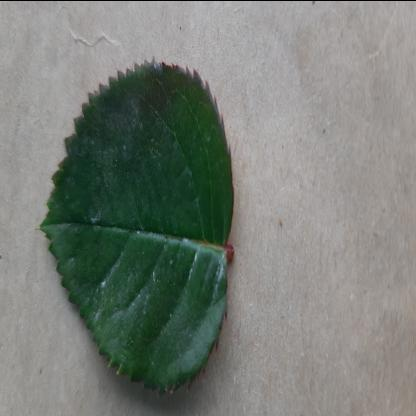normal: (42, 53, 232, 384)
